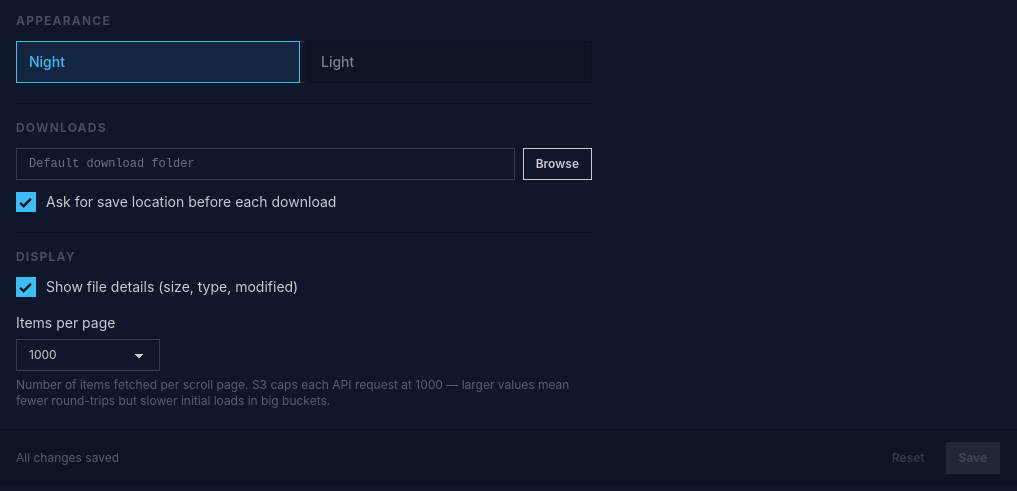
Test: GeneralSection › saves every changed setting
The image size is (1017, 491).
Type "/data" into the field with placeholder "Default download folder" at (265, 164), box [16, 148, 515, 180]
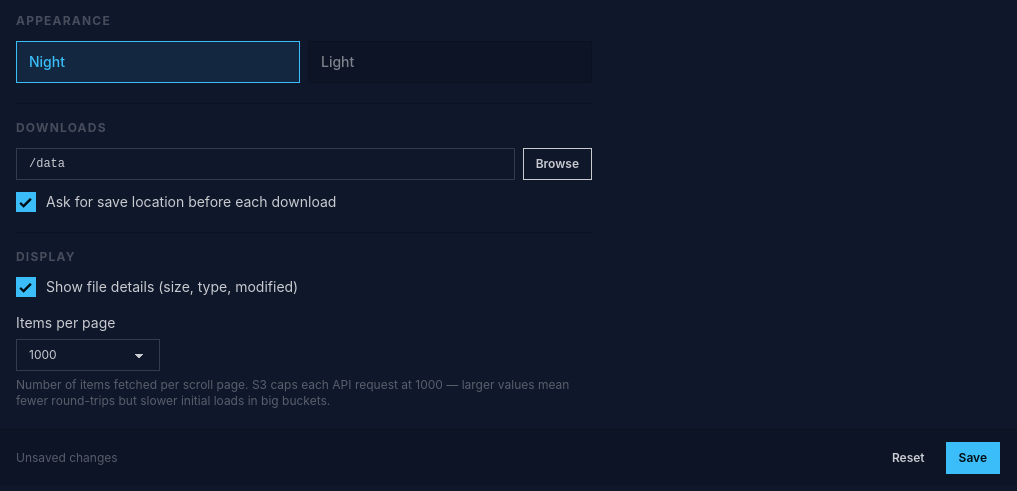
Click the checkbox labelled "Ask for save location before each download" at (26, 202), box [16, 192, 36, 212]
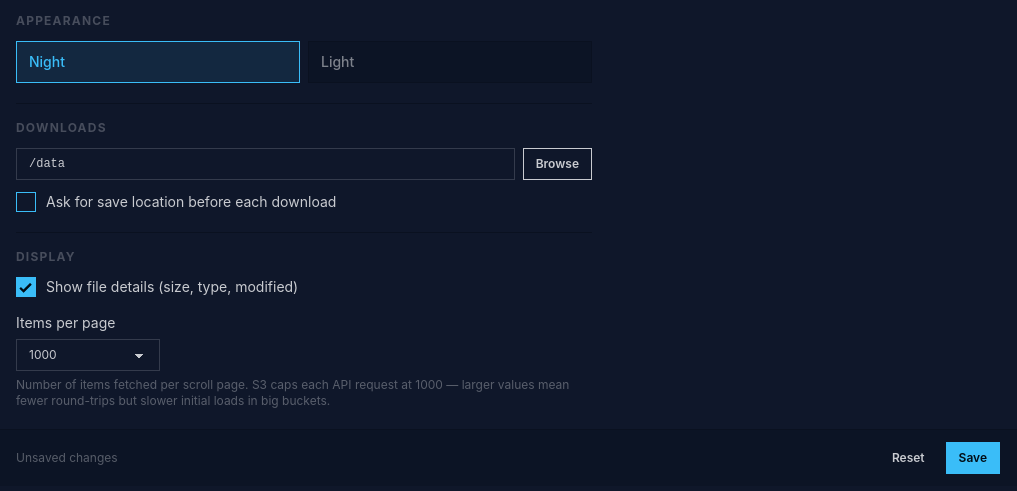
Click the checkbox labelled "Show file details (size, type, modified)" at (26, 287), box [16, 277, 36, 297]
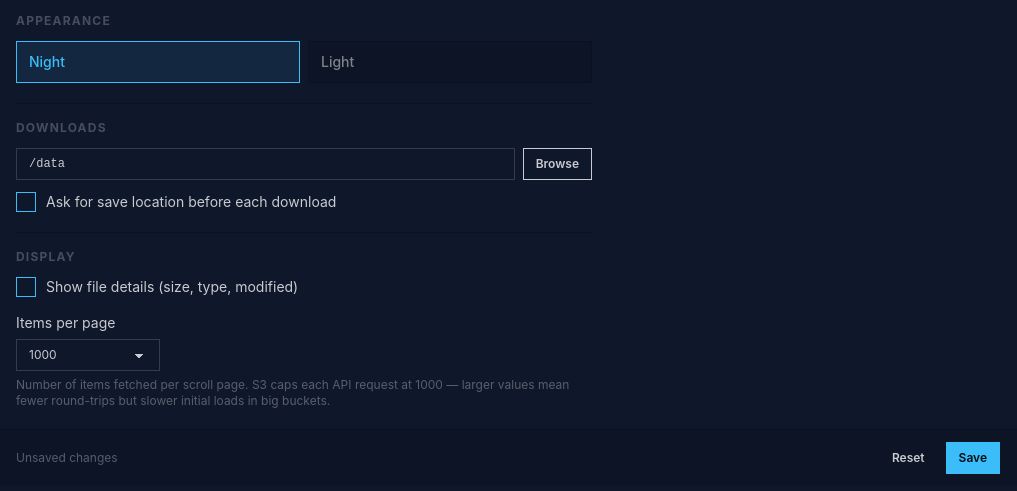
Select "100" in the dropdown labelled "Items per page" at (88, 355), box [16, 339, 160, 371]
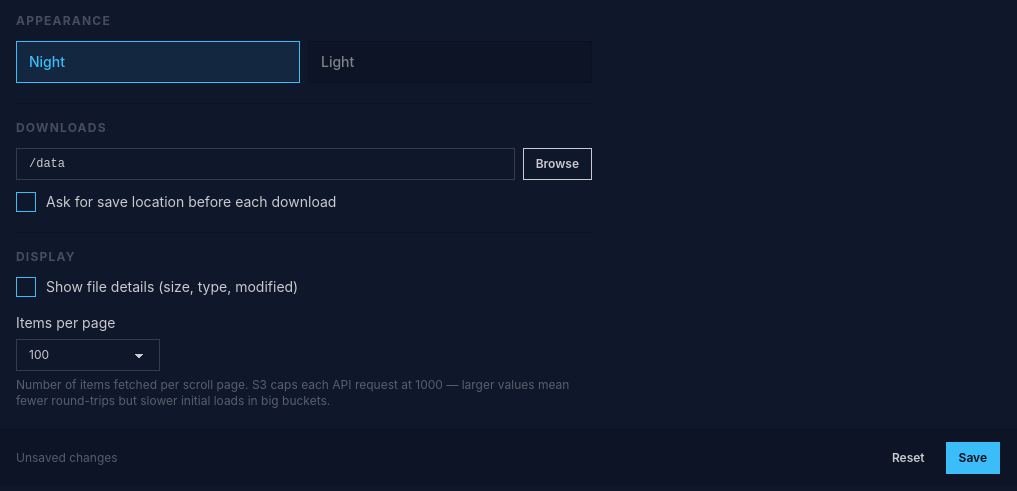
Click the radio button labelled "Light" at (338, 62), box [308, 41, 592, 83]
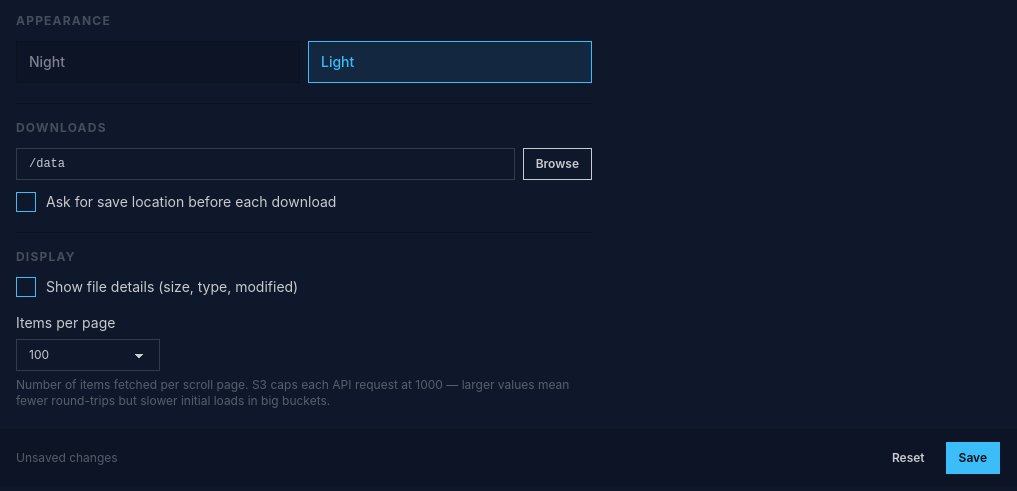
Expected: the text "Unsaved changes" is shown, [16, 450, 118, 466]
Click the button "Save" at (973, 458), box [946, 442, 1000, 474]
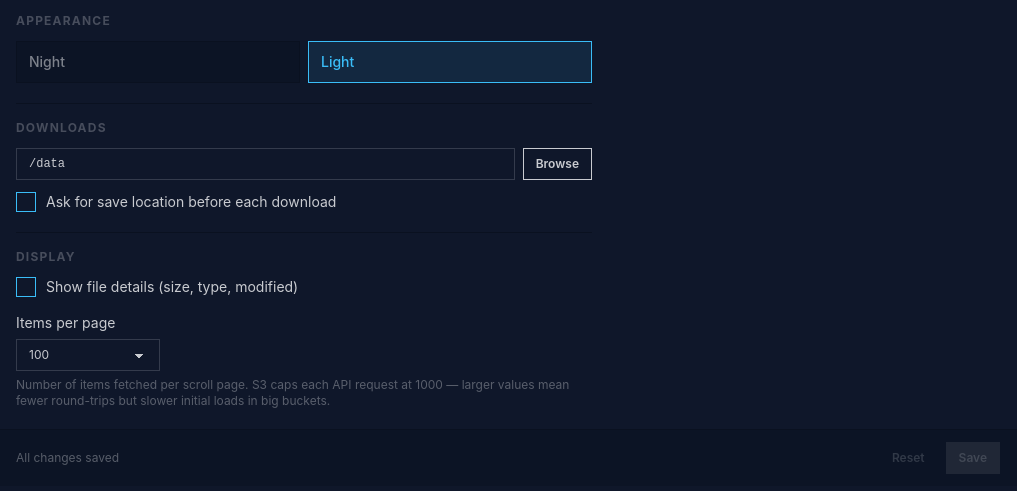
Expected: the button "Save" is disabled, [946, 442, 1000, 474]
